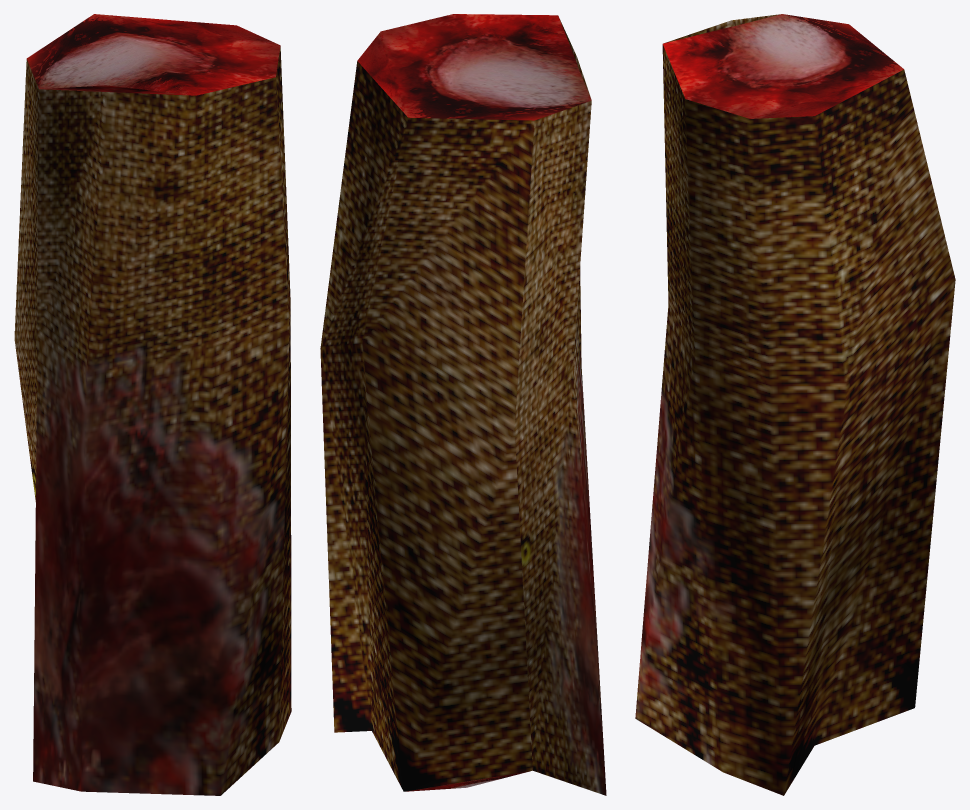
Rendered from lt_lowleg.fbx.
3 renders of one model, left to right at view 1: azimuth 30°, elevation 25°; view 2: azimuth 150°, elevation 25°; view 3: azimuth 270°, elevation 25°, orthographic. The views are drawn at different scales.
Parts seen in each view (by area): view 1: lt_lowleg_gib; view 2: lt_lowleg_gib; view 3: lt_lowleg_gib.
Part boxes in pixels (box(x1,y1,x2,y2)): lt_lowleg_gib: box(14, 14, 291, 795); lt_lowleg_gib: box(320, 14, 606, 795); lt_lowleg_gib: box(635, 14, 955, 795).
Bounding box in the file's own units: 0.1857 × 0.4828 × 0.202.
